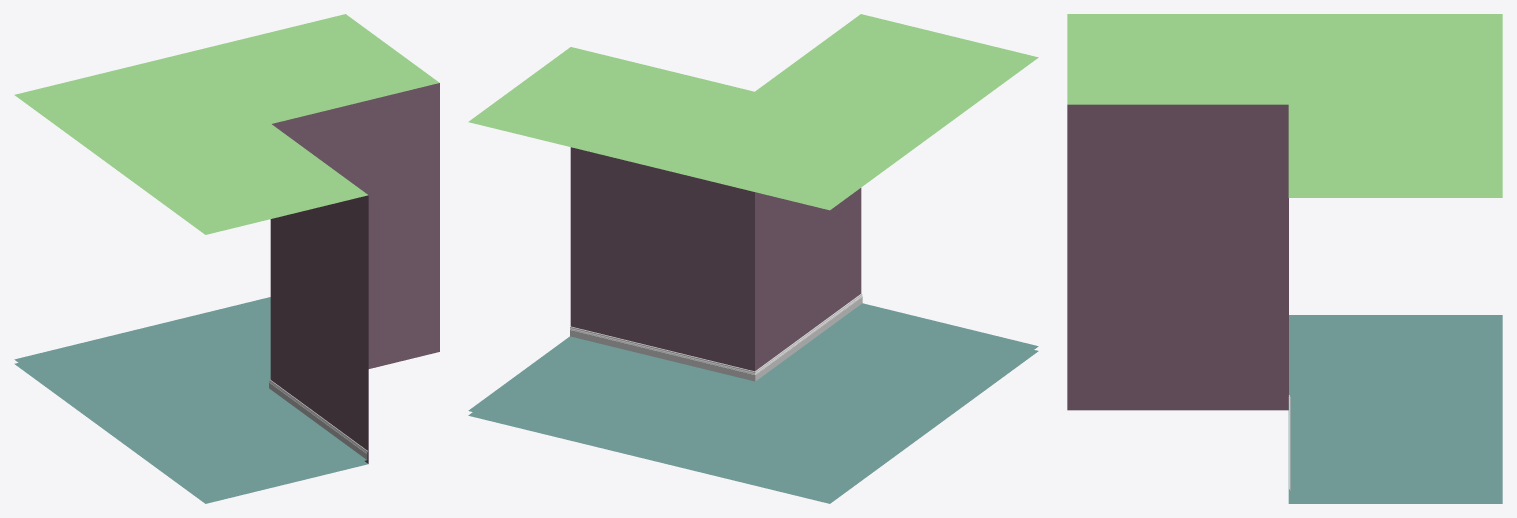
File: Room_wall_2x2_corner_out.fbx
3 views of the same model, side by side, from view 1: azimuth 30°, elevation 25°; view 2: azimuth 150°, elevation 25°; view 3: azimuth 270°, elevation 25° (orthographic). The views are drawn at different scales.
Parts seen in each view (by area): view 1: Wall_2x2_corner_out_full; view 2: Wall_2x2_corner_out_full; view 3: Wall_2x2_corner_out_full.
Boxes of the visible parts, bbox=[...] form: Wall_2x2_corner_out_full: bbox=[14, 14, 439, 503]; Wall_2x2_corner_out_full: bbox=[468, 14, 1038, 503]; Wall_2x2_corner_out_full: bbox=[1067, 14, 1502, 503].
Size of the model in its own units: 4 by 3.1 by 4.
